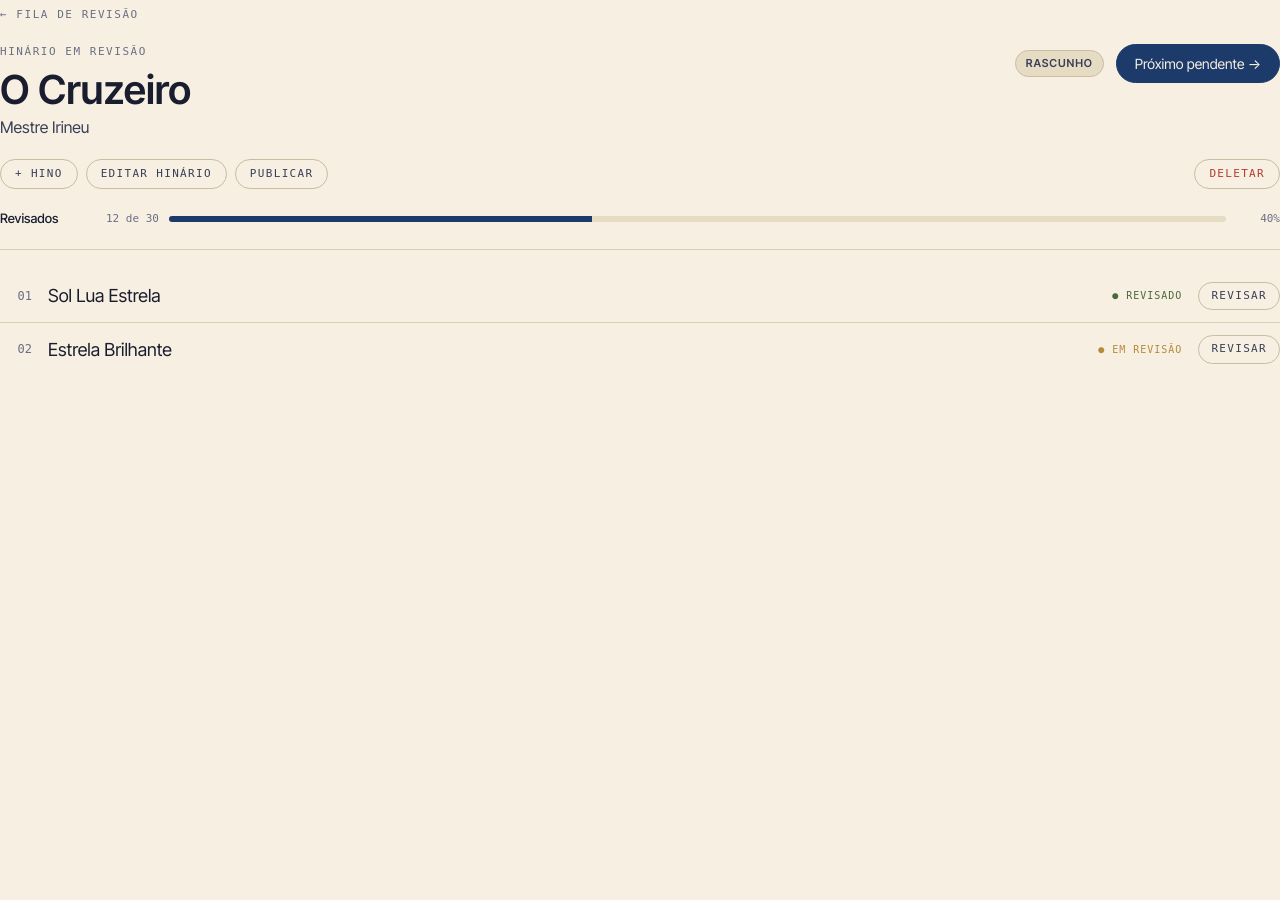
Test: portas de entrada do detalhe editorial (1.2) › o modal de deleção só aparece depois do clique, e sabe quantos hinos leva junto
Click the button with test id "delete-hymnbook" at (1237, 174), box [1194, 158, 1279, 189]
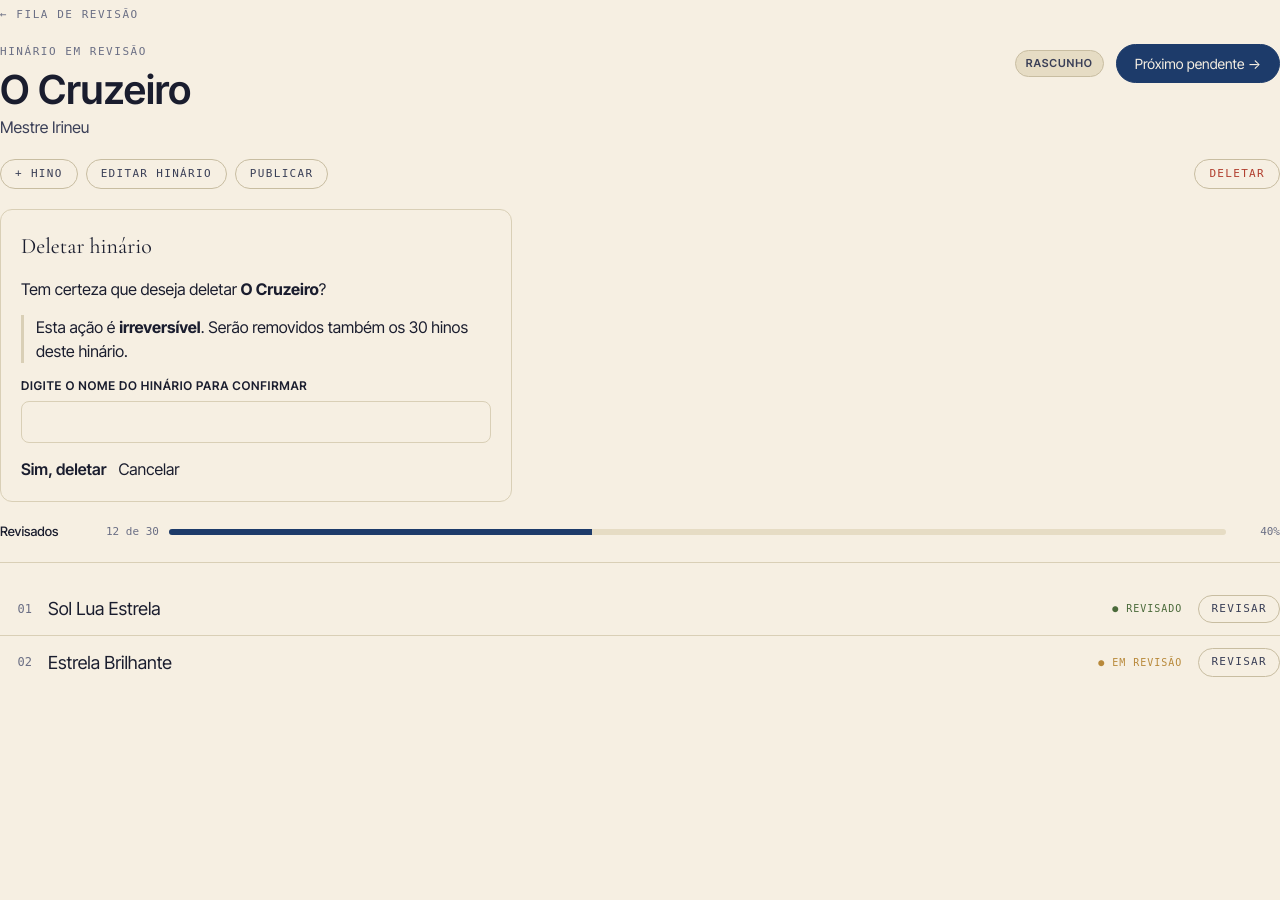
Check: the dialog with test id "delete-hymnbook-modal" is shown, box [0, 209, 512, 502]
Check: the dialog with test id "delete-hymnbook-modal" shows "30 hinos", box [36, 317, 468, 361]
